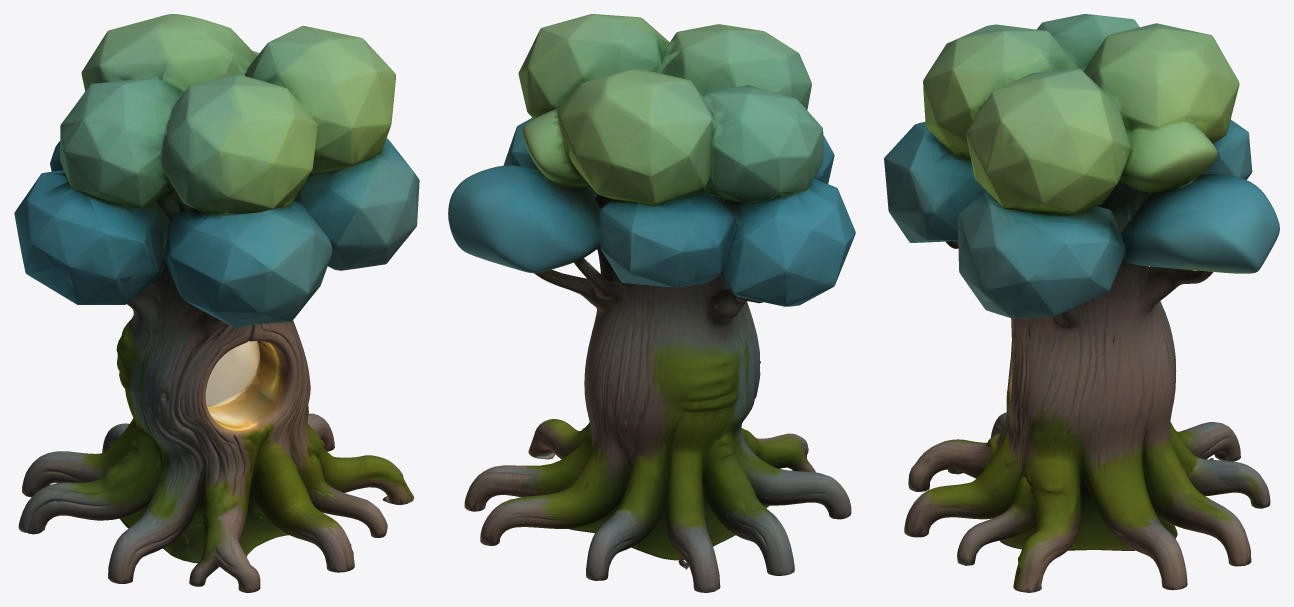
The model's file is tree-hollow-two.glb.
3 views of the same model, side by side, from view 1: azimuth 30°, elevation 25°; view 2: azimuth 150°, elevation 25°; view 3: azimuth 270°, elevation 25° (orthographic). The views are drawn at different scales.
Parts seen in each view (by area): view 1: node_0; view 2: node_0; view 3: node_0.
Part boxes in pixels (box(x1,y1,x2,y2)): node_0: box(14, 14, 419, 592); node_0: box(448, 14, 855, 592); node_0: box(884, 14, 1279, 592).
Bounding box in the file's own units: 0.7466 × 0.9299 × 0.7077.
Materials: 1 (1 with a texture image).
